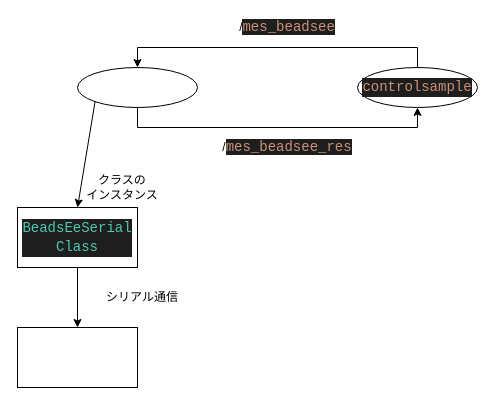
Image size: 495x405. Some labels were removed from this diagram. The centre of each missing label's shape, as x and y in pixels:
Arduino: the point at 77,357
beadsee: the point at 137,87
